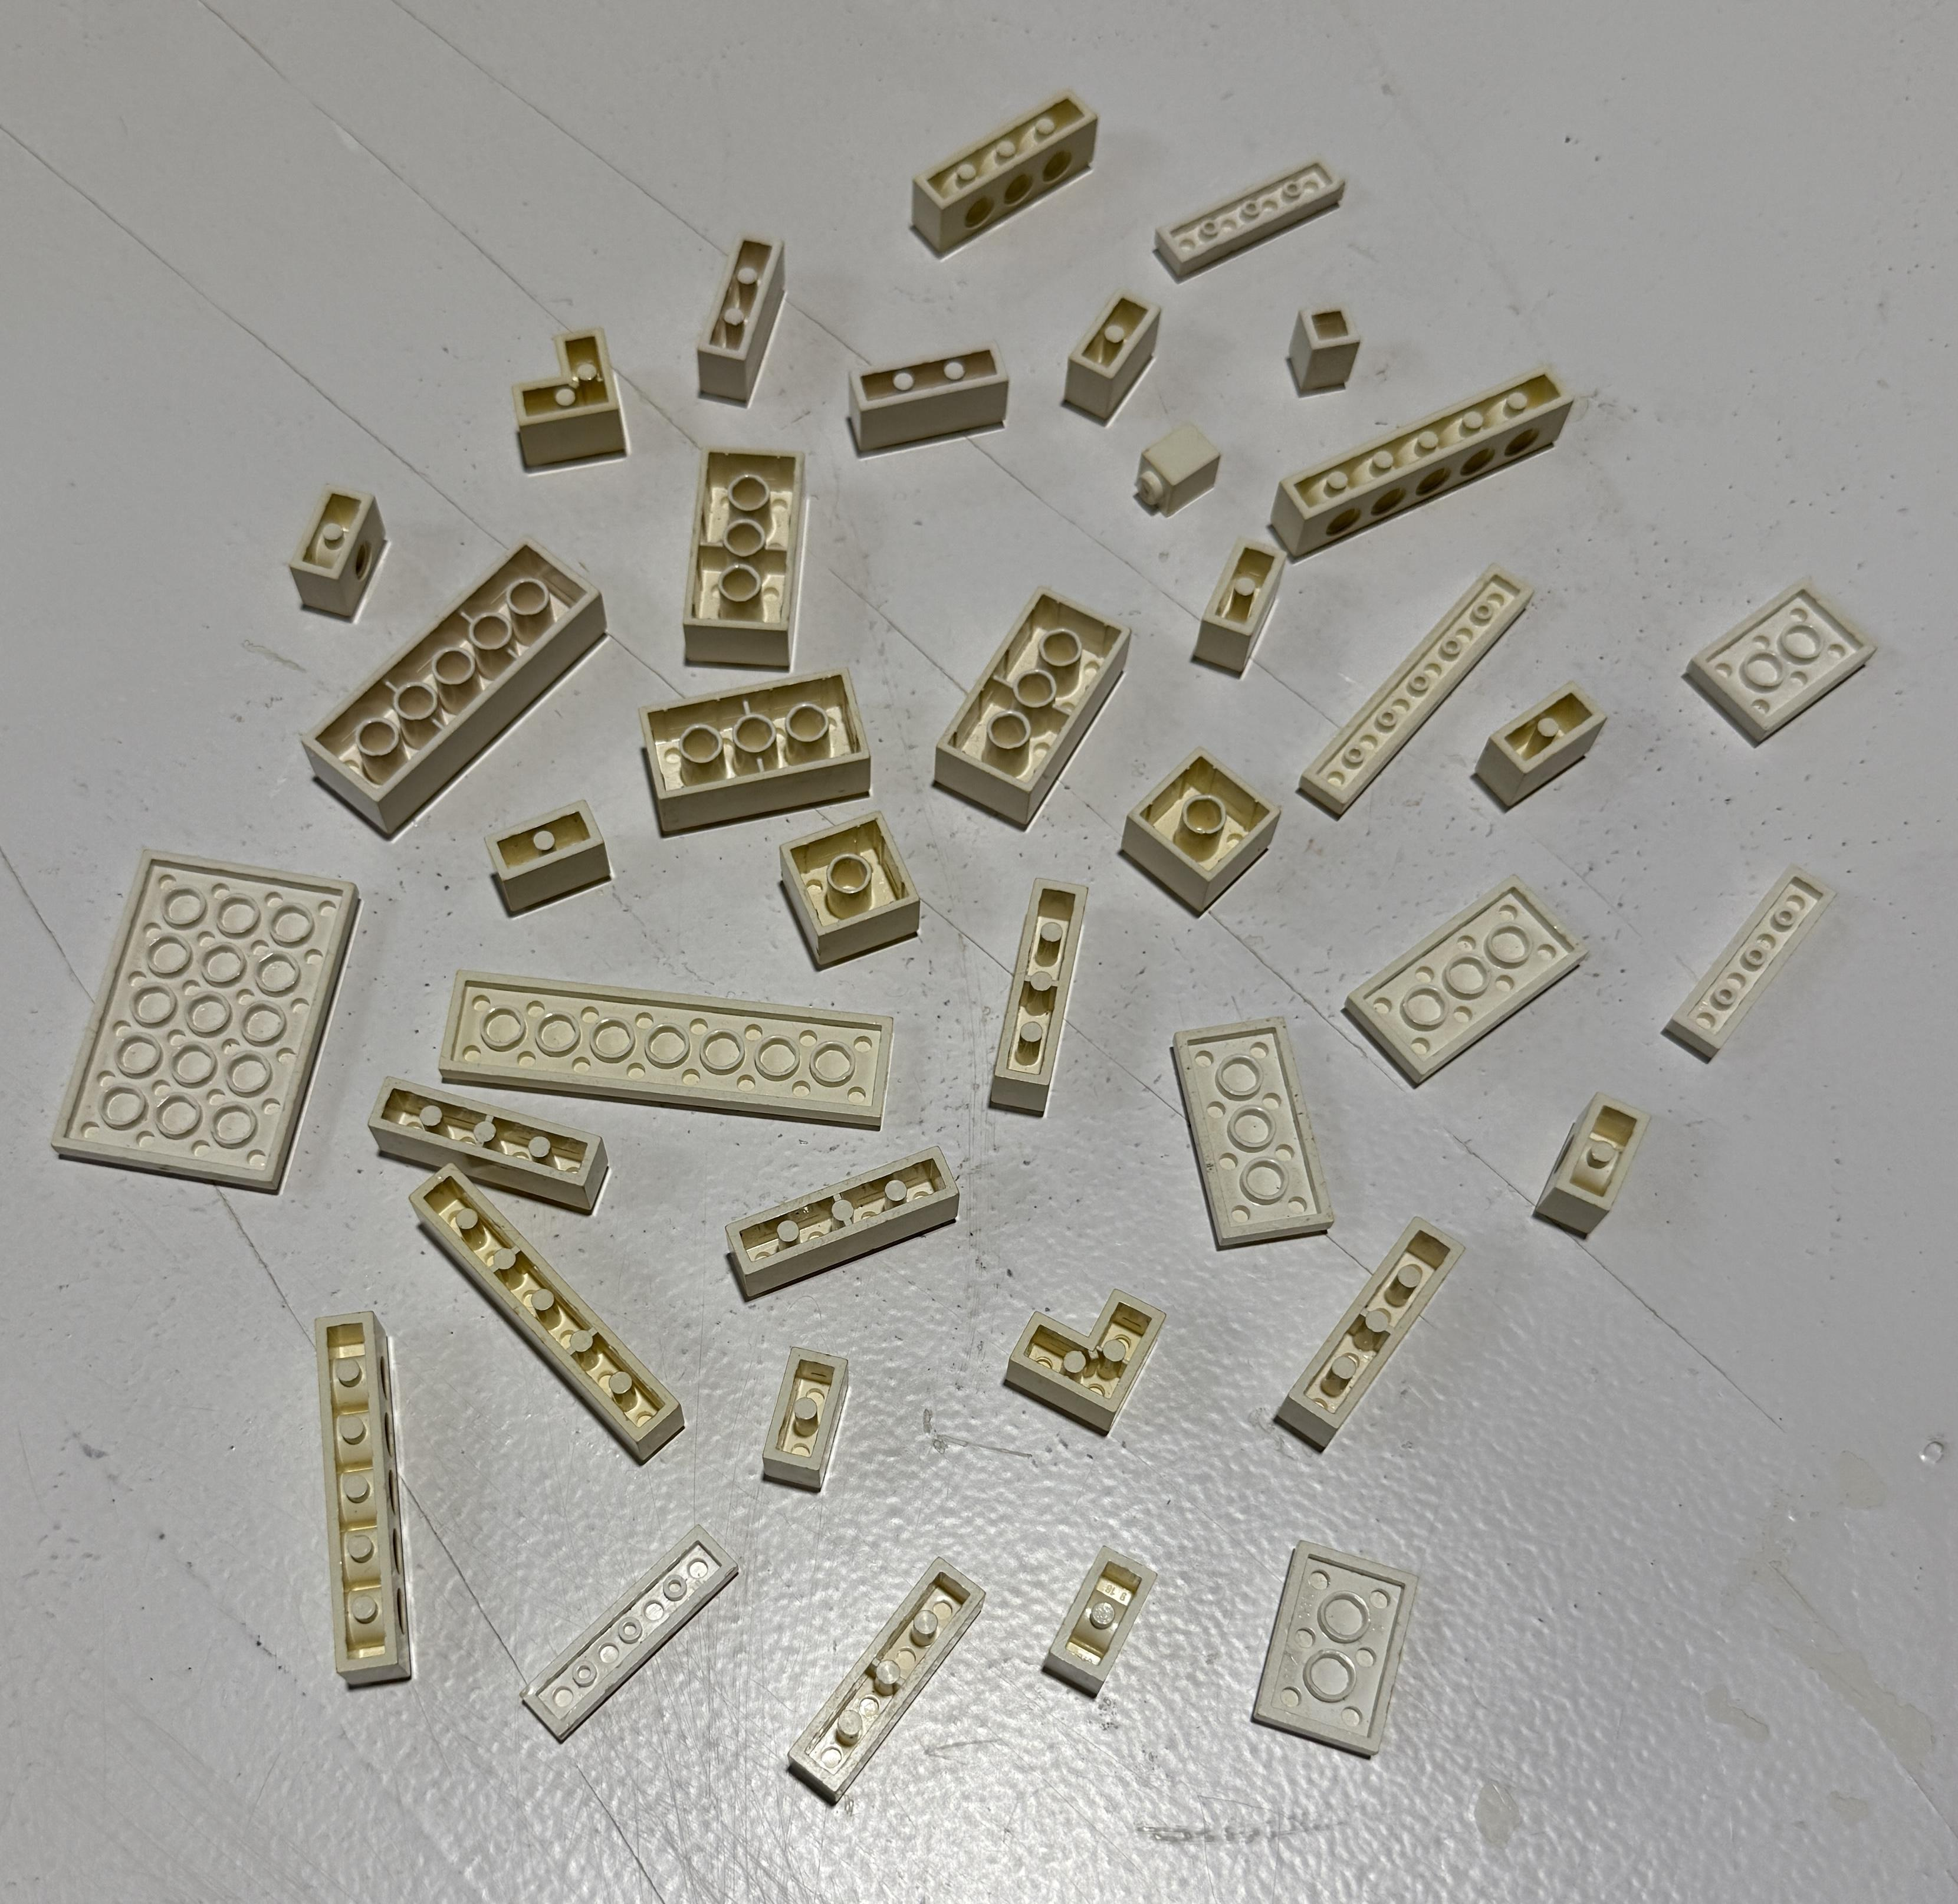brick_1x1: (1094, 390, 1238, 544), (1276, 290, 1407, 420)
brick_1x2: (1023, 1511, 1171, 1734), (1460, 656, 1636, 839), (463, 764, 635, 937), (1530, 1081, 1682, 1262), (739, 1329, 874, 1509), (278, 467, 402, 635), (1182, 511, 1294, 696)
brick_1x3: (829, 313, 1045, 479), (670, 219, 820, 430)
brick_1x4: (1241, 1192, 1479, 1484), (351, 1056, 645, 1222), (893, 72, 1119, 285), (965, 857, 1122, 1129)
brick_2x2: (717, 1122, 977, 1311), (1108, 738, 1285, 918), (764, 792, 934, 963)
brick_2x4: (928, 579, 1143, 846), (652, 425, 818, 696), (628, 675, 883, 843)
